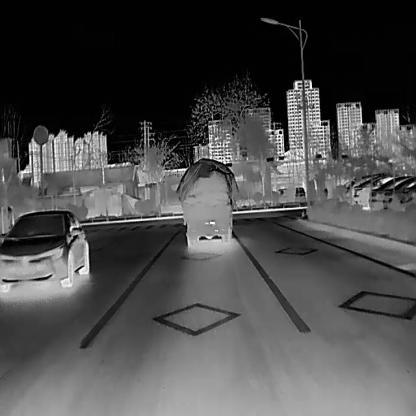car: (0, 209, 88, 292), (176, 156, 238, 247), (352, 174, 393, 208), (381, 176, 415, 208), (294, 186, 305, 197)
